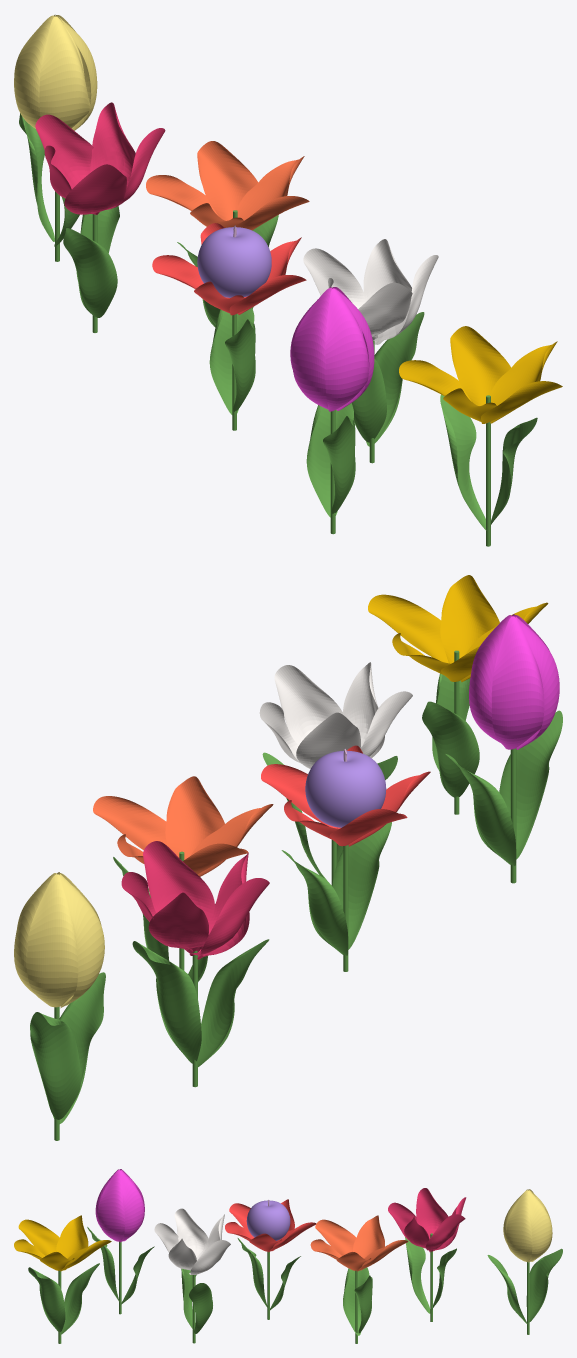
Rendered from tulip garden 2.fbx.
3 views of the same model, one above another, from view 1: azimuth 30°, elevation 25°; view 2: azimuth 150°, elevation 25°; view 3: azimuth 270°, elevation 25° (orthographic). The views are drawn at different scales.
Parts seen in each view (by area): view 1: apple, tulip.028, tulip.010, tulip.011, tulip.023, tulip.008, leaf.004, tulip.034, tulip.029, leaf.001, leaf, tulip.032 (+28 smaller); view 2: tulip.012, tulip.025, apple, leaf 2.006, leaf 2.002, leaf 2.004, leaf.001, tulip.005, leaf 2.003, tulip.020, tulip.031, leaf.004 (+26 smaller); view 3: tulip.014, apple, tulip.027, leaf 2.006, leaf 2.001, tulip.026, tulip.013, tulip.033, leaf.001, tulip.002, leaf.005, tulip.007 (+31 smaller).
Part boxes in pixels (x1,y1,x2,y2): apple: [197, 227, 271, 297]; tulip.028: [39, 16, 90, 128]; tulip.010: [325, 288, 369, 411]; tulip.011: [292, 288, 332, 409]; tulip.023: [197, 141, 257, 220]; tulip.008: [450, 326, 511, 405]; leaf.004: [63, 228, 117, 317]; tulip.034: [35, 114, 93, 189]; tulip.029: [14, 15, 54, 128]; leaf.001: [440, 394, 486, 530]; leaf: [366, 312, 424, 446]; tulip.032: [64, 164, 126, 214]; tulip.012: [491, 616, 544, 749]; tulip.025: [26, 874, 78, 1007]; apple: [305, 750, 386, 827]; leaf 2.006: [30, 1012, 80, 1119]; leaf 2.002: [499, 710, 562, 859]; leaf 2.004: [132, 941, 201, 1063]; leaf.001: [422, 701, 479, 797]; tulip.005: [440, 575, 499, 663]; leaf 2.003: [332, 822, 391, 949]; tulip.020: [165, 776, 224, 859]; tulip.031: [143, 841, 214, 952]; leaf.004: [198, 939, 269, 1066]; tulip.014: [99, 1170, 124, 1241]; apple: [246, 1200, 290, 1240]; tulip.027: [506, 1190, 532, 1261]; leaf 2.006: [526, 1248, 562, 1321]; leaf 2.001: [28, 1267, 65, 1331]; tulip.026: [528, 1190, 552, 1262]; tulip.013: [120, 1170, 144, 1242]; tulip.033: [416, 1188, 448, 1251]; leaf.001: [61, 1263, 99, 1334]; tulip.002: [174, 1208, 208, 1257]; leaf.005: [343, 1267, 369, 1335]; tulip.007: [56, 1215, 88, 1270].
Size of the model in its own units: 1083 by 1162 by 4016.
